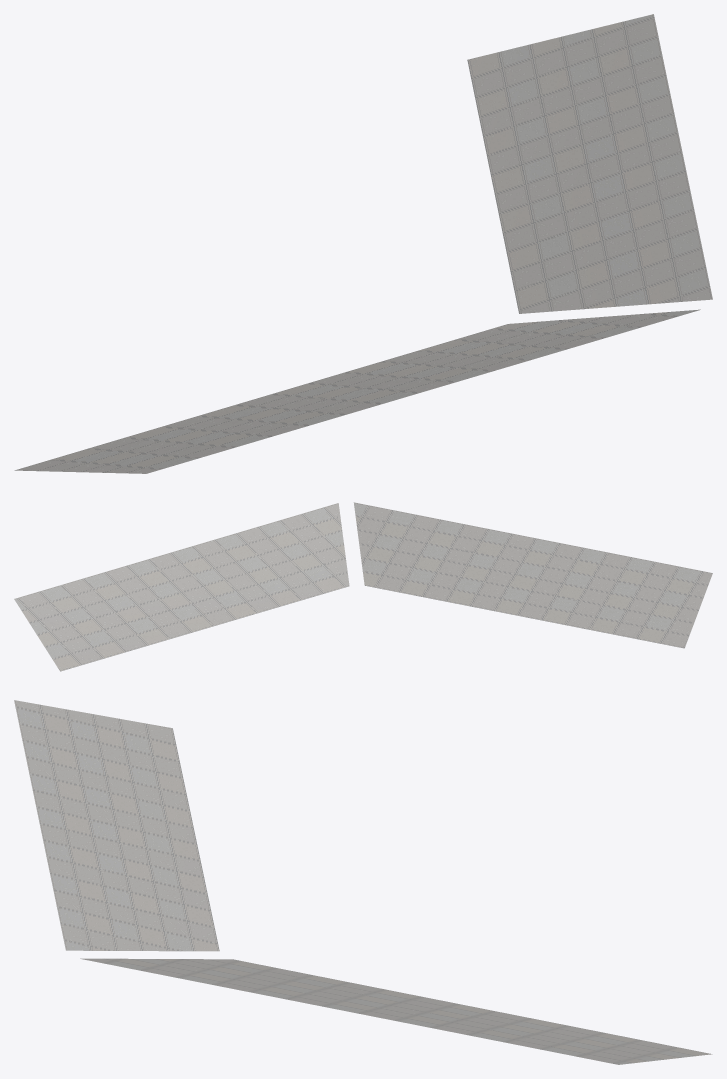
Rendered from kd_connection_town-ground_surface_5_66.glb.
3 views of the same model, one above another, from view 1: azimuth 30°, elevation 25°; view 2: azimuth 150°, elevation 25°; view 3: azimuth 270°, elevation 25° (orthographic). The views are drawn at different scales.
Parts seen in each view (by area): view 1: kd_connection_town-ground_surface_5_66; view 2: kd_connection_town-ground_surface_5_66; view 3: kd_connection_town-ground_surface_5_66.
Boxes of the visible parts, bbox=[...] form: kd_connection_town-ground_surface_5_66: bbox=[14, 14, 712, 473]; kd_connection_town-ground_surface_5_66: bbox=[14, 502, 712, 671]; kd_connection_town-ground_surface_5_66: bbox=[14, 700, 712, 1064].
Size of the model in its own units: 27.85 by 1.57 by 21.48.
Materials: 1 (1 with a texture image).
